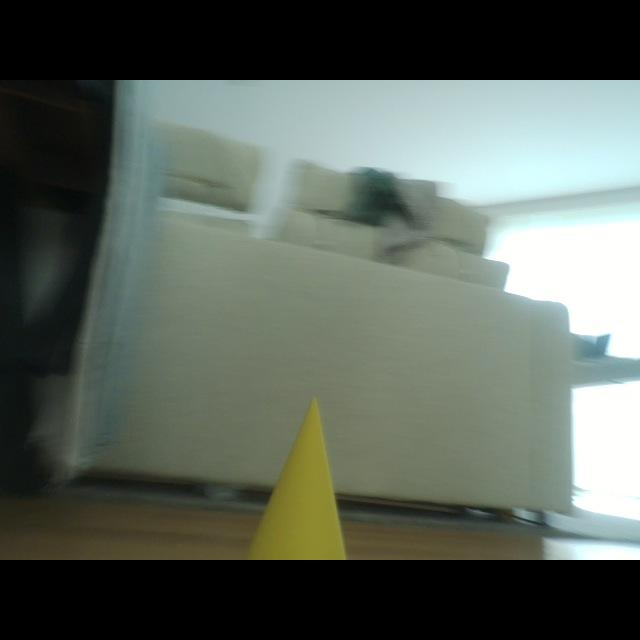bolya: (249, 399, 345, 559)
